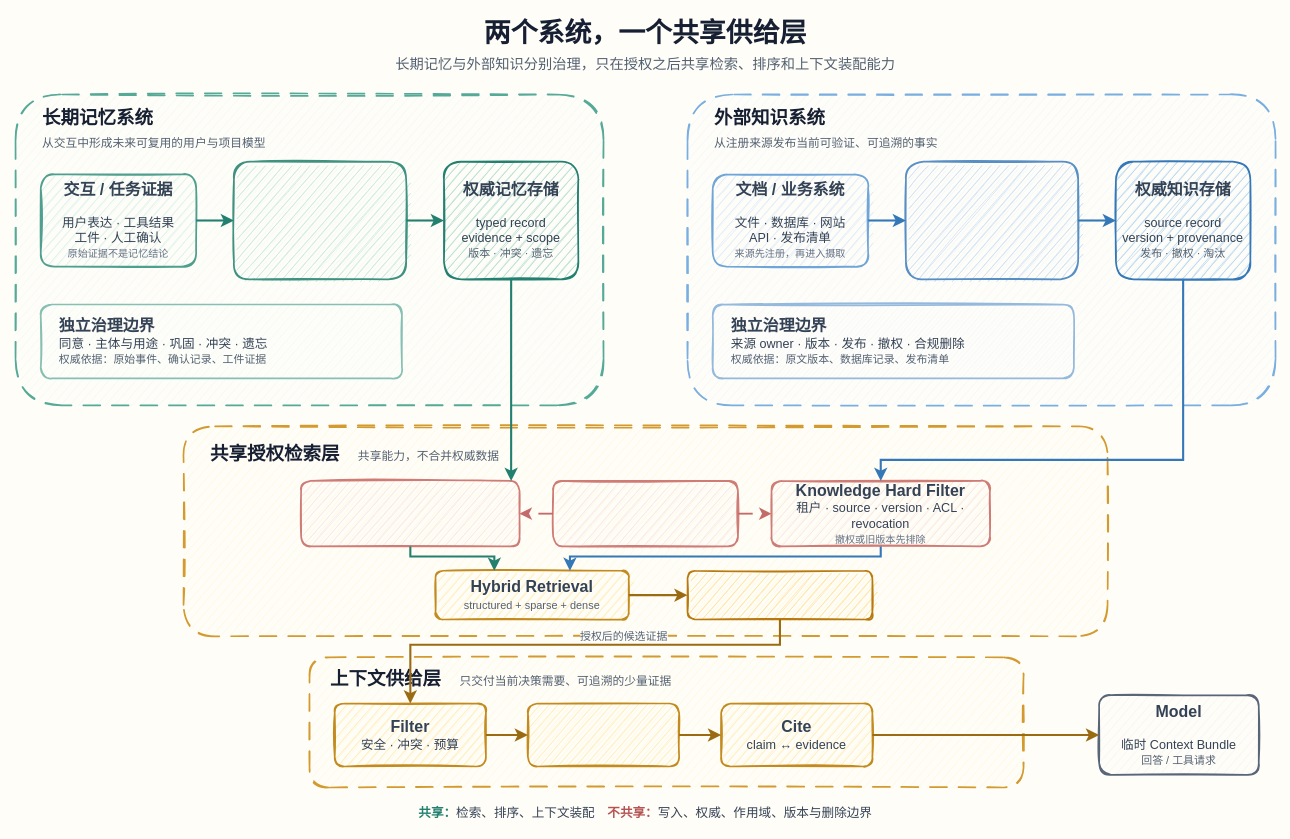
This 1290x839 diagram has some shape labels left out. Each missing label, with the box of its shape:
Memory Hard Filter 主体 · scope · purpose · consent · status 未授权候选不得进入召回: (300, 480, 520, 547)
Pack 原子组 · 去重 · 压缩: (527, 702, 680, 767)
Rerank 相关性 · 权威性 · 时效 · 冲突: (686, 570, 873, 620)
控制输入 Task · Identity · Purpose 决定允许检索什么: (552, 480, 738, 547)
摄取与发布 Parse · Chunk · Index Validate · Publish owner · version · freshness: (905, 160, 1079, 280)
记忆写入治理 Gate · Extract · Verify Reconcile · Commit 同意 · 作用域 · 置信度: (233, 160, 407, 280)
